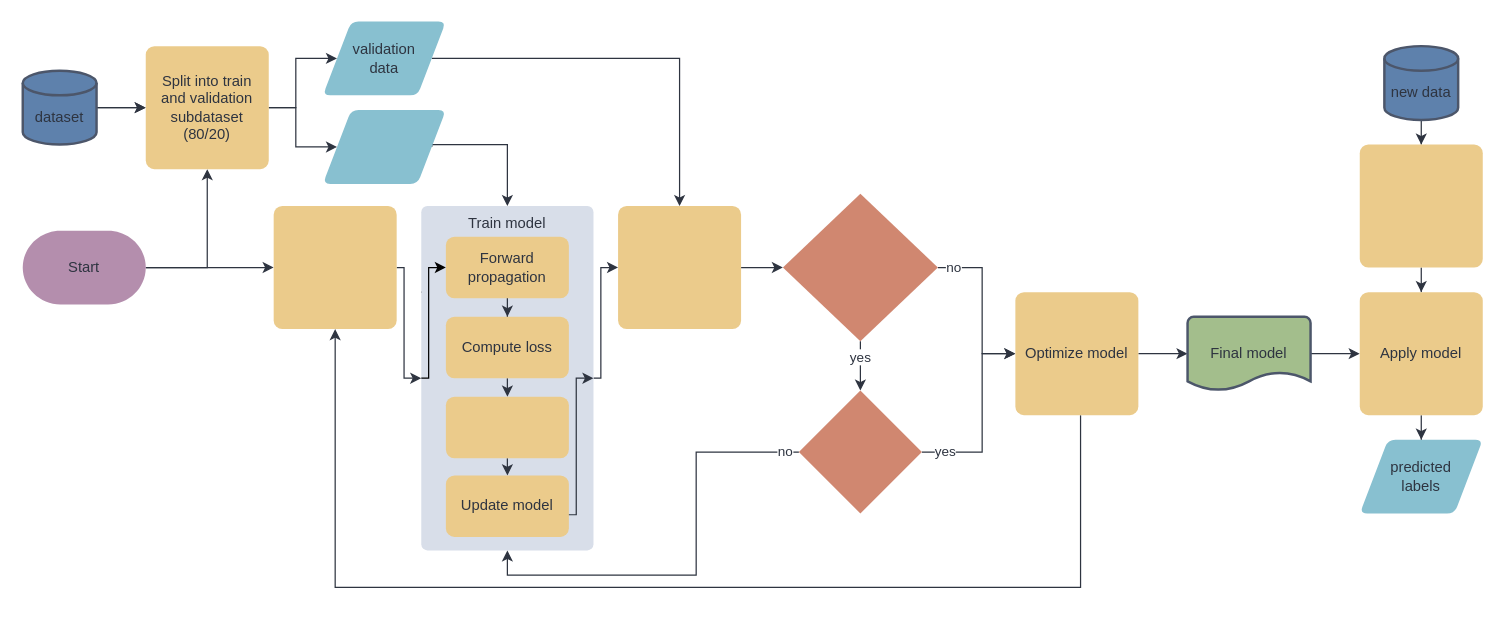
Some shapes in this 1503 by 619 pixel diagram are drawn without their labels. Each missing label, with the centre of its shape:
Back propagation: [506,427]
Build model: [334,266]
Epochs < max number of epochs?: [859,267]
Evaluate model on new data: [678,266]
Overfitting?: [859,451]
Preprocess data: [1420,205]
train data: [383,146]
